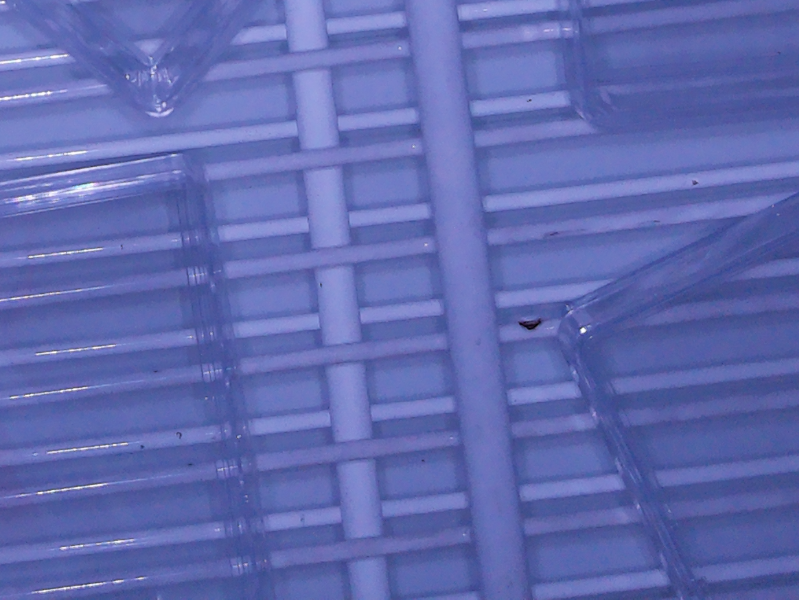plate: (1, 145, 282, 600), (553, 190, 799, 600), (1, 1, 267, 125), (555, 1, 799, 135)
